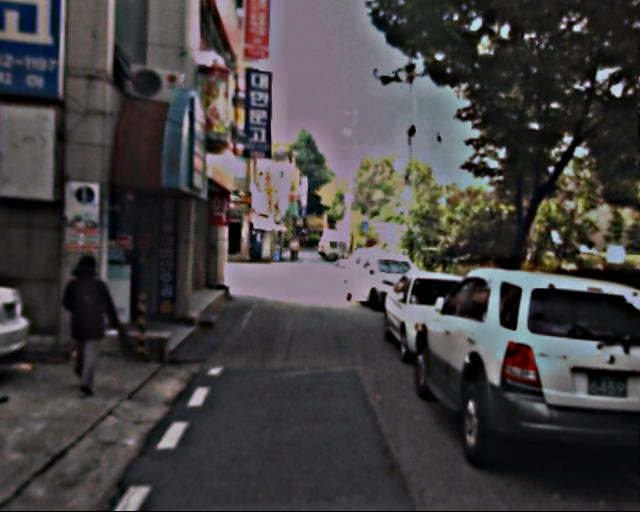person: (59, 247, 131, 396)
